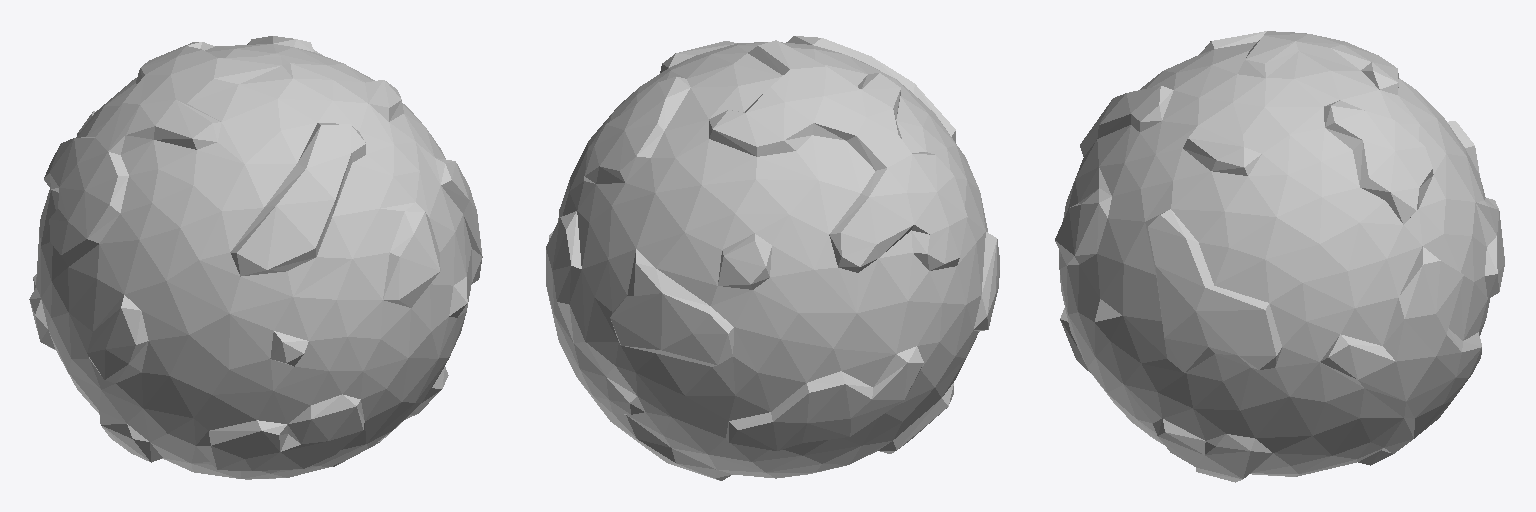
Rendered from mercury.obj.
3 views of the same model, side by side, from view 1: azimuth 30°, elevation 25°; view 2: azimuth 150°, elevation 25°; view 3: azimuth 270°, elevation 25° (orthographic).
Visible parts, largest first — view 1: Mercury; view 2: Mercury; view 3: Mercury.
Boxes of the visible parts, <box> form: Mercury: <box>29,36,482,479</box>; Mercury: <box>546,36,999,480</box>; Mercury: <box>1055,31,1504,482</box>.
Size of the model in its own units: 8.12 by 8.04 by 8.16.